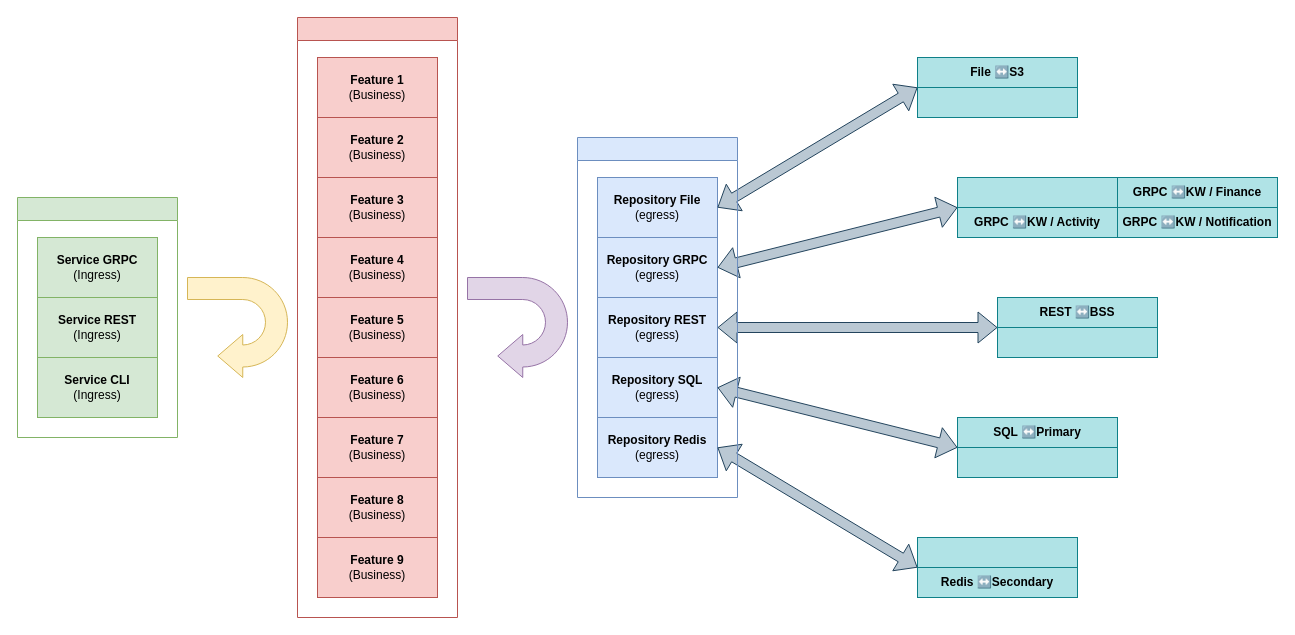
This 1295x635 diagram has some shape labels left out. Each missing label, with the box of its shape:
Feature Interfaces: (296, 16, 458, 618)
File ↔️ Local: (916, 86, 1078, 118)
GRPC ↔️ KW / User: (956, 176, 1118, 208)
Redis ↔️ Primary: (916, 536, 1078, 568)
Repository Interfaces: (576, 136, 738, 498)
REST ↔️ Xendit: (996, 326, 1158, 358)
Service Interfaces: (16, 196, 178, 438)
SQL ↔️ Secondary: (956, 446, 1118, 478)
